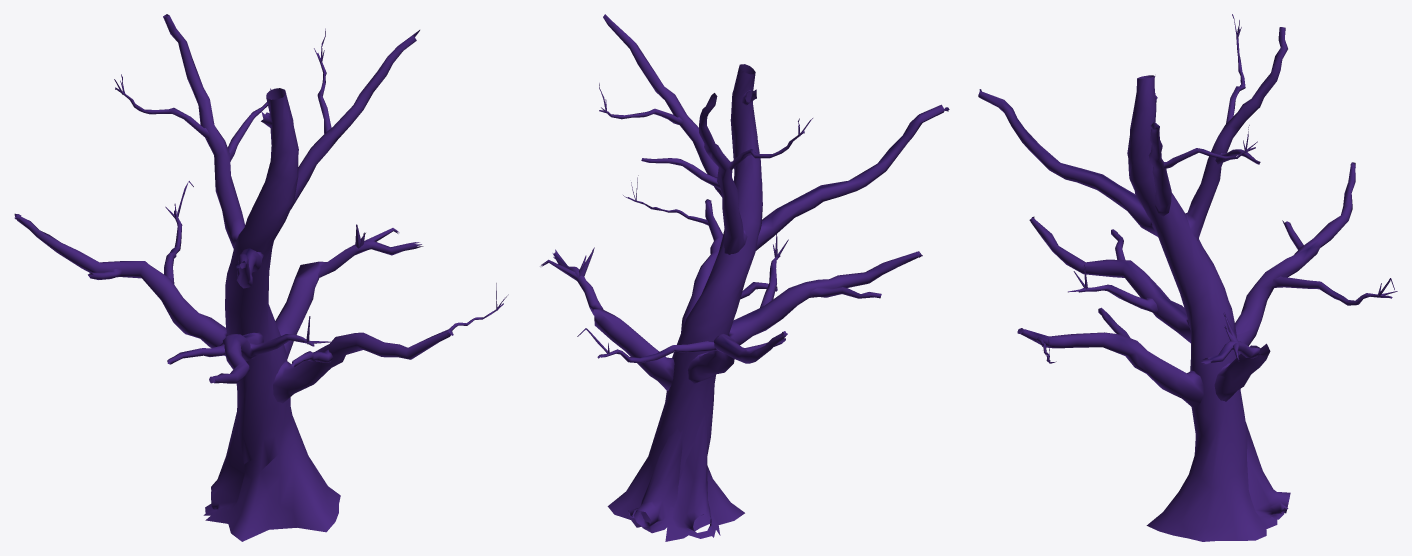
File: SmallTreeLow.obj
3 renders of one model, left to right at view 1: azimuth 30°, elevation 25°; view 2: azimuth 150°, elevation 25°; view 3: azimuth 270°, elevation 25°, orthographic. The views are drawn at different scales.
Visible parts, largest first — view 1: TreeLoisSimple; view 2: TreeLoisSimple; view 3: TreeLoisSimple.
Part boxes in pixels (left/top/right/bottom): TreeLoisSimple: left=14, top=14, right=508, bottom=541; TreeLoisSimple: left=540, top=14, right=949, bottom=541; TreeLoisSimple: left=978, top=14, right=1397, bottom=541.
Size of the model in its own units: 3.25 by 4.58 by 3.74.
